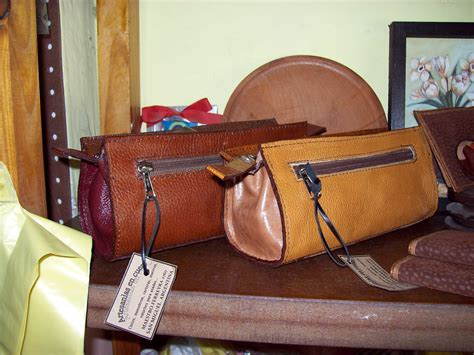cuero: (62, 117, 441, 267)
